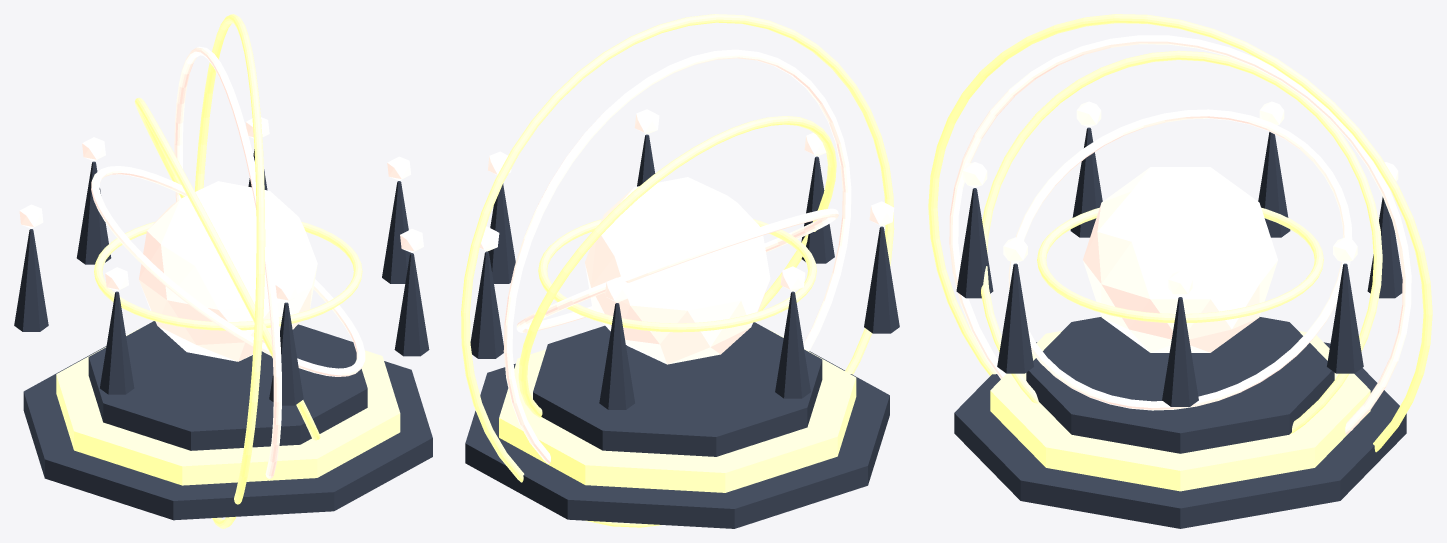
File: gpu-blender-v32.glb
3 views of the same model, side by side, from view 1: azimuth 30°, elevation 25°; view 2: azimuth 150°, elevation 25°; view 3: azimuth 270°, elevation 25° (orthographic). The views are drawn at different scales.
Visible parts, largest first — view 1: Cylinder.002, Cylinder, SovereignCore_zoth-scene-foundry, Cylinder.001, Torus.004, Torus.003, Torus.001, Torus, Torus.002, Cone.006, Cone.004, Cone.003 (+3 smaller); view 2: Cylinder.002, SovereignCore_zoth-scene-foundry, Cylinder, Cylinder.001, Torus.004, Torus.003, Torus.002, Torus.001, Torus, Cone.004, Cone.003, Cone.002 (+4 smaller); view 3: SovereignCore_zoth-scene-foundry, Cylinder.002, Cylinder, Cylinder.001, Torus.004, Torus.003, Torus.002, Torus.001, Torus, Cone.001, Cone.006, Cone (+4 smaller).
Boxes of the visible parts, x1,y1,x2,y2 form: Cylinder.002: (88, 321, 367, 450); Cylinder: (23, 346, 432, 520); SovereignCore_zoth-scene-foundry: (139, 181, 317, 361); Cylinder.001: (56, 328, 400, 485); Torus.004: (195, 14, 265, 528); Torus.003: (174, 46, 281, 480); Torus.001: (91, 166, 365, 376); Torus: (94, 222, 362, 330); Torus.002: (135, 97, 320, 440); Cone.006: (394, 253, 429, 356); Cone.004: (100, 291, 134, 394); Cone.003: (14, 229, 48, 331); Cylinder.002: (533, 322, 822, 456); SovereignCore_zoth-scene-foundry: (585, 177, 770, 364); Cylinder: (465, 351, 889, 528); Cylinder.001: (499, 330, 856, 492); Torus.004: (461, 14, 894, 527); Torus.003: (503, 49, 851, 463); Torus.002: (518, 116, 836, 417); Torus.001: (516, 208, 838, 332); Torus: (538, 219, 816, 332); Cone.004: (864, 226, 899, 333); Cone.003: (775, 291, 810, 398); Cone.002: (599, 303, 634, 409); SovereignCore_zoth-scene-foundry: (1083, 167, 1277, 352); Cylinder.002: (1026, 317, 1334, 453); Cylinder: (954, 342, 1406, 528); Cylinder.001: (990, 330, 1370, 491); Torus.004: (928, 14, 1432, 452); Torus.003: (949, 35, 1411, 434); Torus.002: (981, 50, 1382, 433); Torus.001: (1008, 109, 1352, 410); Torus: (1037, 207, 1323, 322); Cone.001: (1327, 263, 1363, 373); Cone.006: (997, 263, 1033, 373); Cone: (1162, 297, 1198, 406).
Size of the model in its own units: 4.41 by 5.33 by 4.9.
